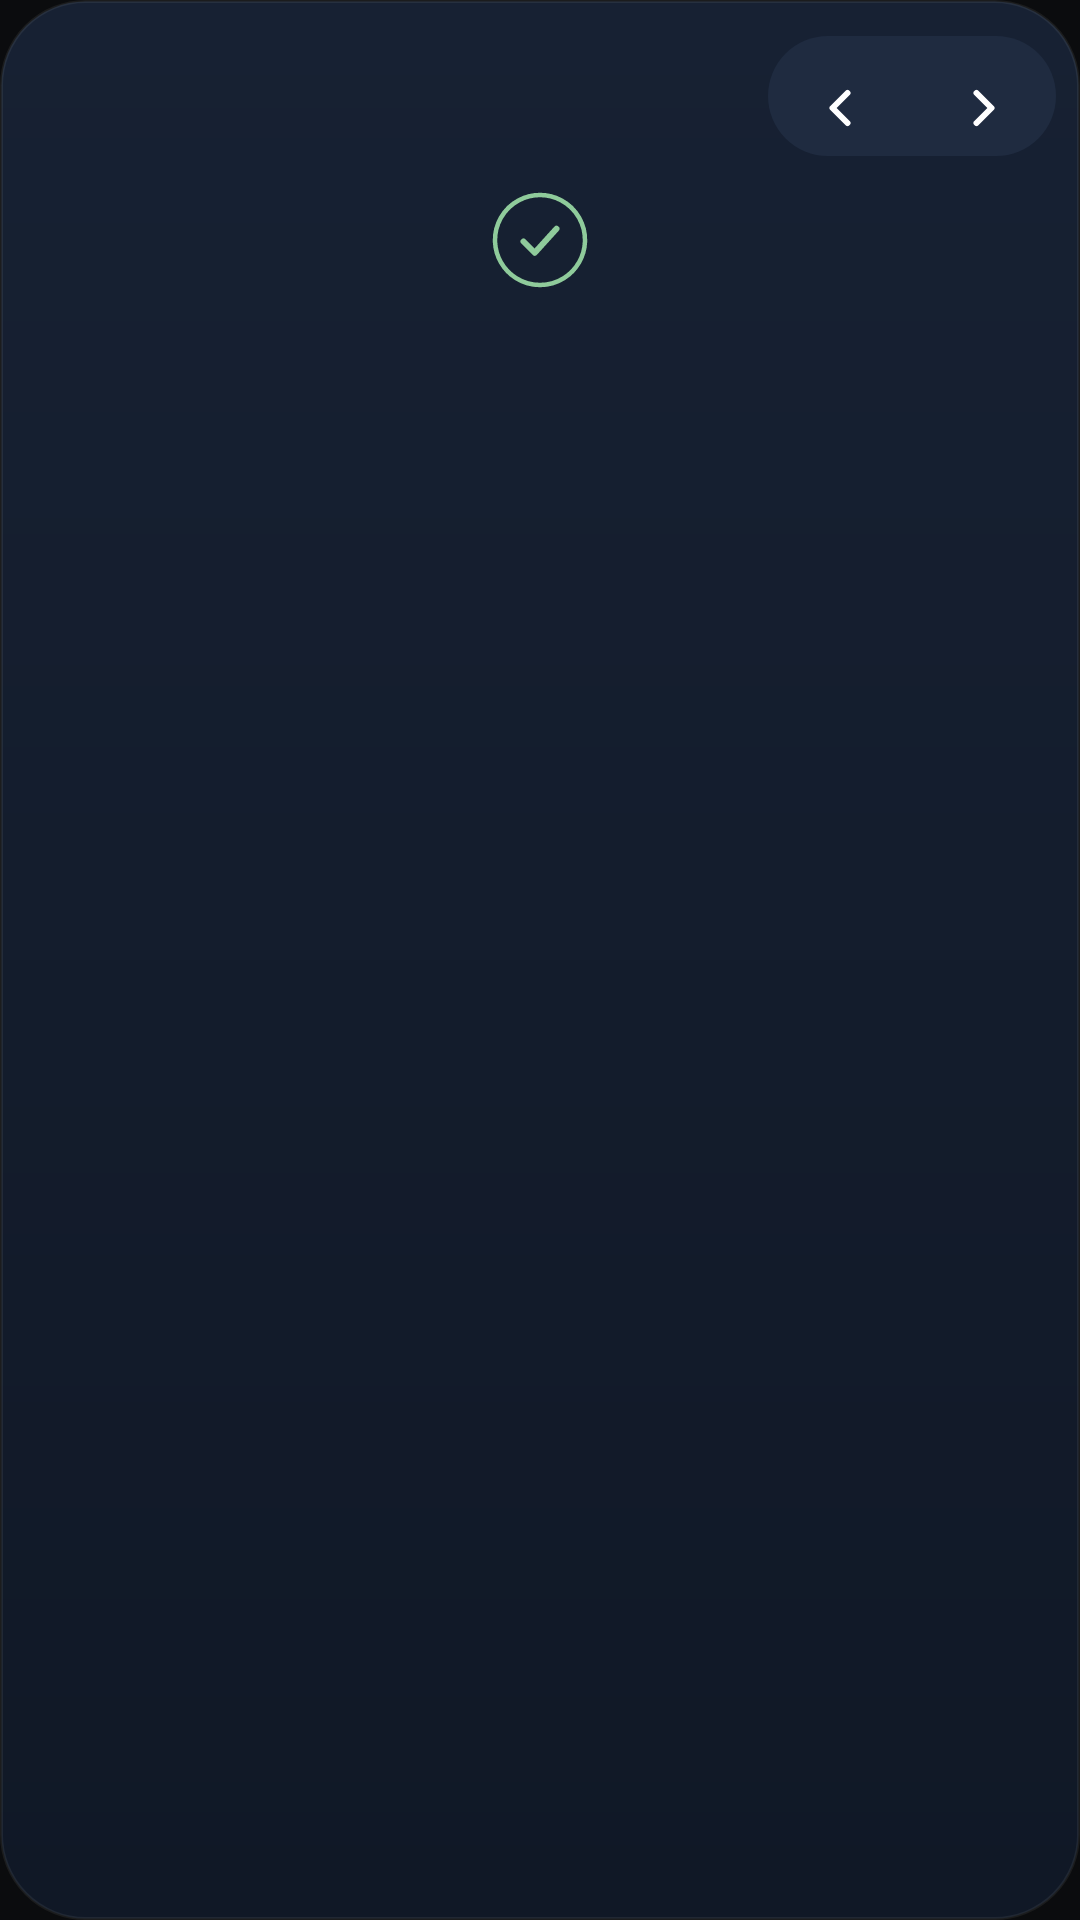

Where to tap for icons on this 1080 × 1920 app screen, as (x=x, y=y):
Next day: (x=984, y=96)
Previous day: (x=840, y=96)
